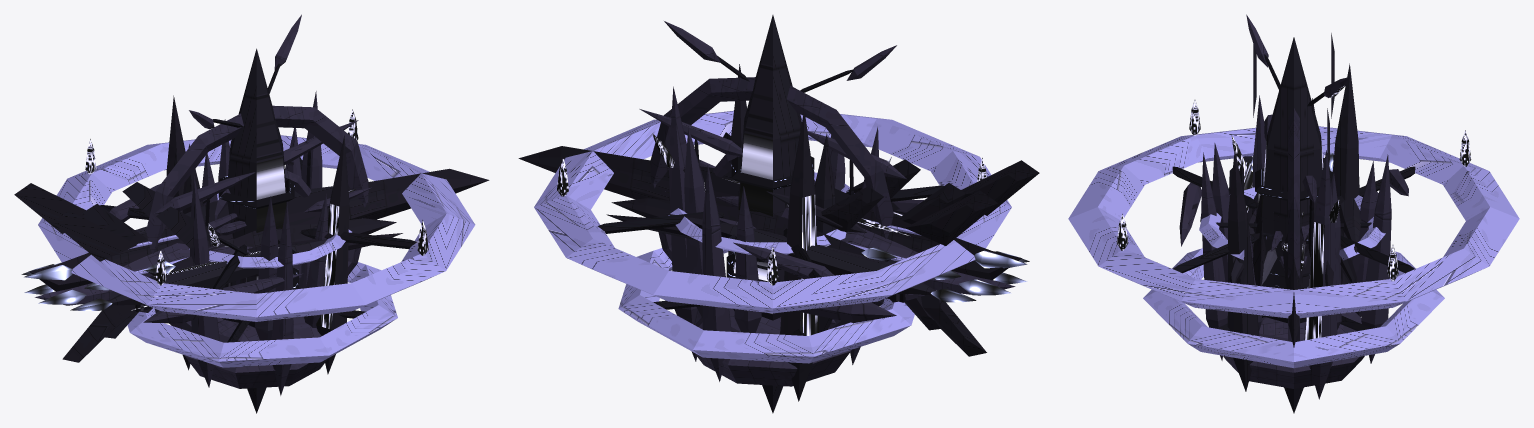
Rendered from void_ships.glb.
The picture shows the model from 3 angles, left to right: view 1: azimuth 30°, elevation 25°; view 2: azimuth 150°, elevation 25°; view 3: azimuth 270°, elevation 25°; orthographic projection. The views are drawn at different scales.
Parts seen in each view (by area): view 1: stellar_station, battleship, station, destroyer, cruiser, science; view 2: stellar_station, battleship, station, destroyer, cruiser, science; view 3: stellar_station, station, battleship, science, destroyer, cruiser, builder.
Boxes of the visible parts, left/top/right/bottom form: stellar_station: left=38, top=14, right=475, bottom=413; battleship: left=14, top=120, right=489, bottom=362; station: left=127, top=128, right=397, bottom=367; destroyer: left=122, top=182, right=396, bottom=312; cruiser: left=81, top=187, right=402, bottom=338; science: left=189, top=169, right=355, bottom=268; stellar_station: left=534, top=15, right=1011, bottom=413; battleship: left=518, top=109, right=1039, bottom=356; station: left=618, top=127, right=914, bottom=363; destroyer: left=611, top=159, right=920, bottom=302; cruiser: left=606, top=159, right=966, bottom=330; science: left=668, top=147, right=854, bottom=254; stellar_station: left=1068, top=14, right=1519, bottom=413; station: left=1143, top=98, right=1444, bottom=368; battleship: left=1179, top=33, right=1408, bottom=347; science: left=1199, top=187, right=1385, bottom=260; destroyer: left=1251, top=108, right=1333, bottom=286; cruiser: left=1229, top=158, right=1358, bottom=283; builder: left=1255, top=224, right=1325, bottom=285.
Size of the model in its own units: 6.4 by 4.8 by 5.2.
Materials: 1 (1 with a texture image).
